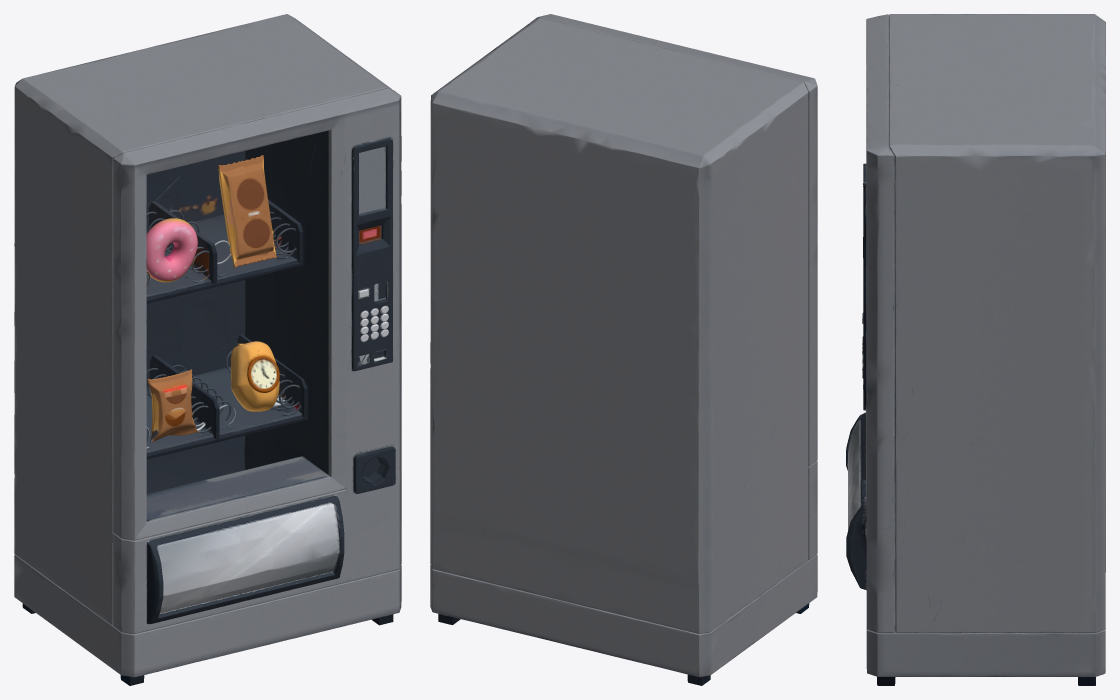
Rendered from MaquinaExpendedora.glb.
3 renders of one model, left to right at view 1: azimuth 30°, elevation 25°; view 2: azimuth 150°, elevation 25°; view 3: azimuth 270°, elevation 25°, orthographic.
Bounding box in the file's own units: 1.05 × 1.9 × 0.8292.
Materials: 1 (1 with a texture image).
